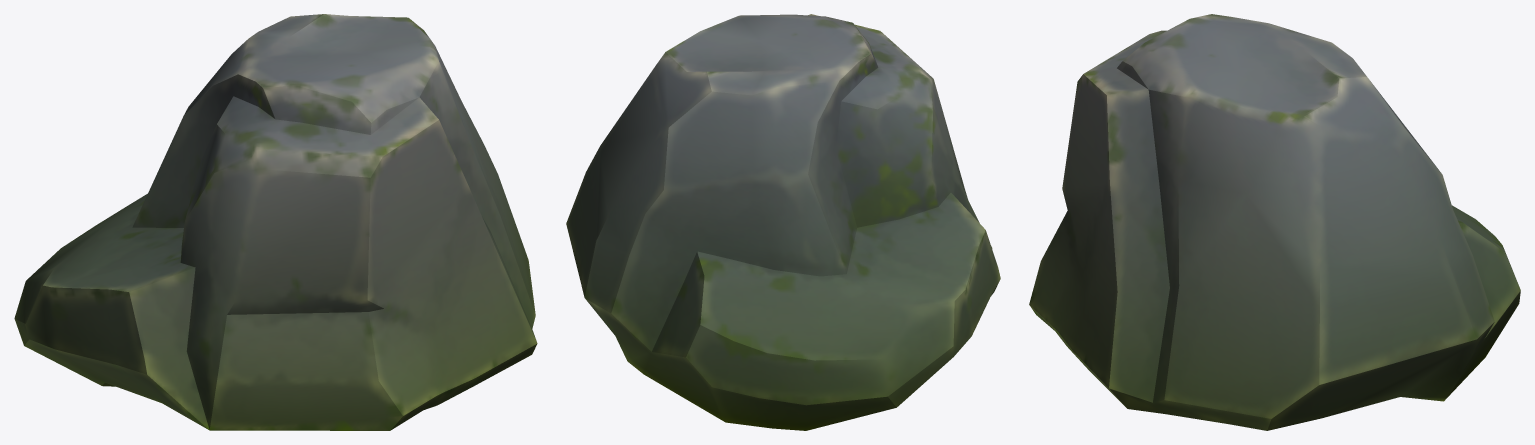
File: jardin_roca.obj
3 renders of one model, left to right at view 1: azimuth 30°, elevation 25°; view 2: azimuth 150°, elevation 25°; view 3: azimuth 270°, elevation 25°, orthographic. The views are drawn at different scales.
Visible parts, largest first — view 1: jardin_roca; view 2: jardin_roca; view 3: jardin_roca.
Part boxes in pixels (<box>): jardin_roca: <box>14,14,537,430</box>; jardin_roca: <box>566,14,1000,430</box>; jardin_roca: <box>1029,14,1520,430</box>.
Bounding box in the file's own units: 3.23 × 2.26 × 2.99.
